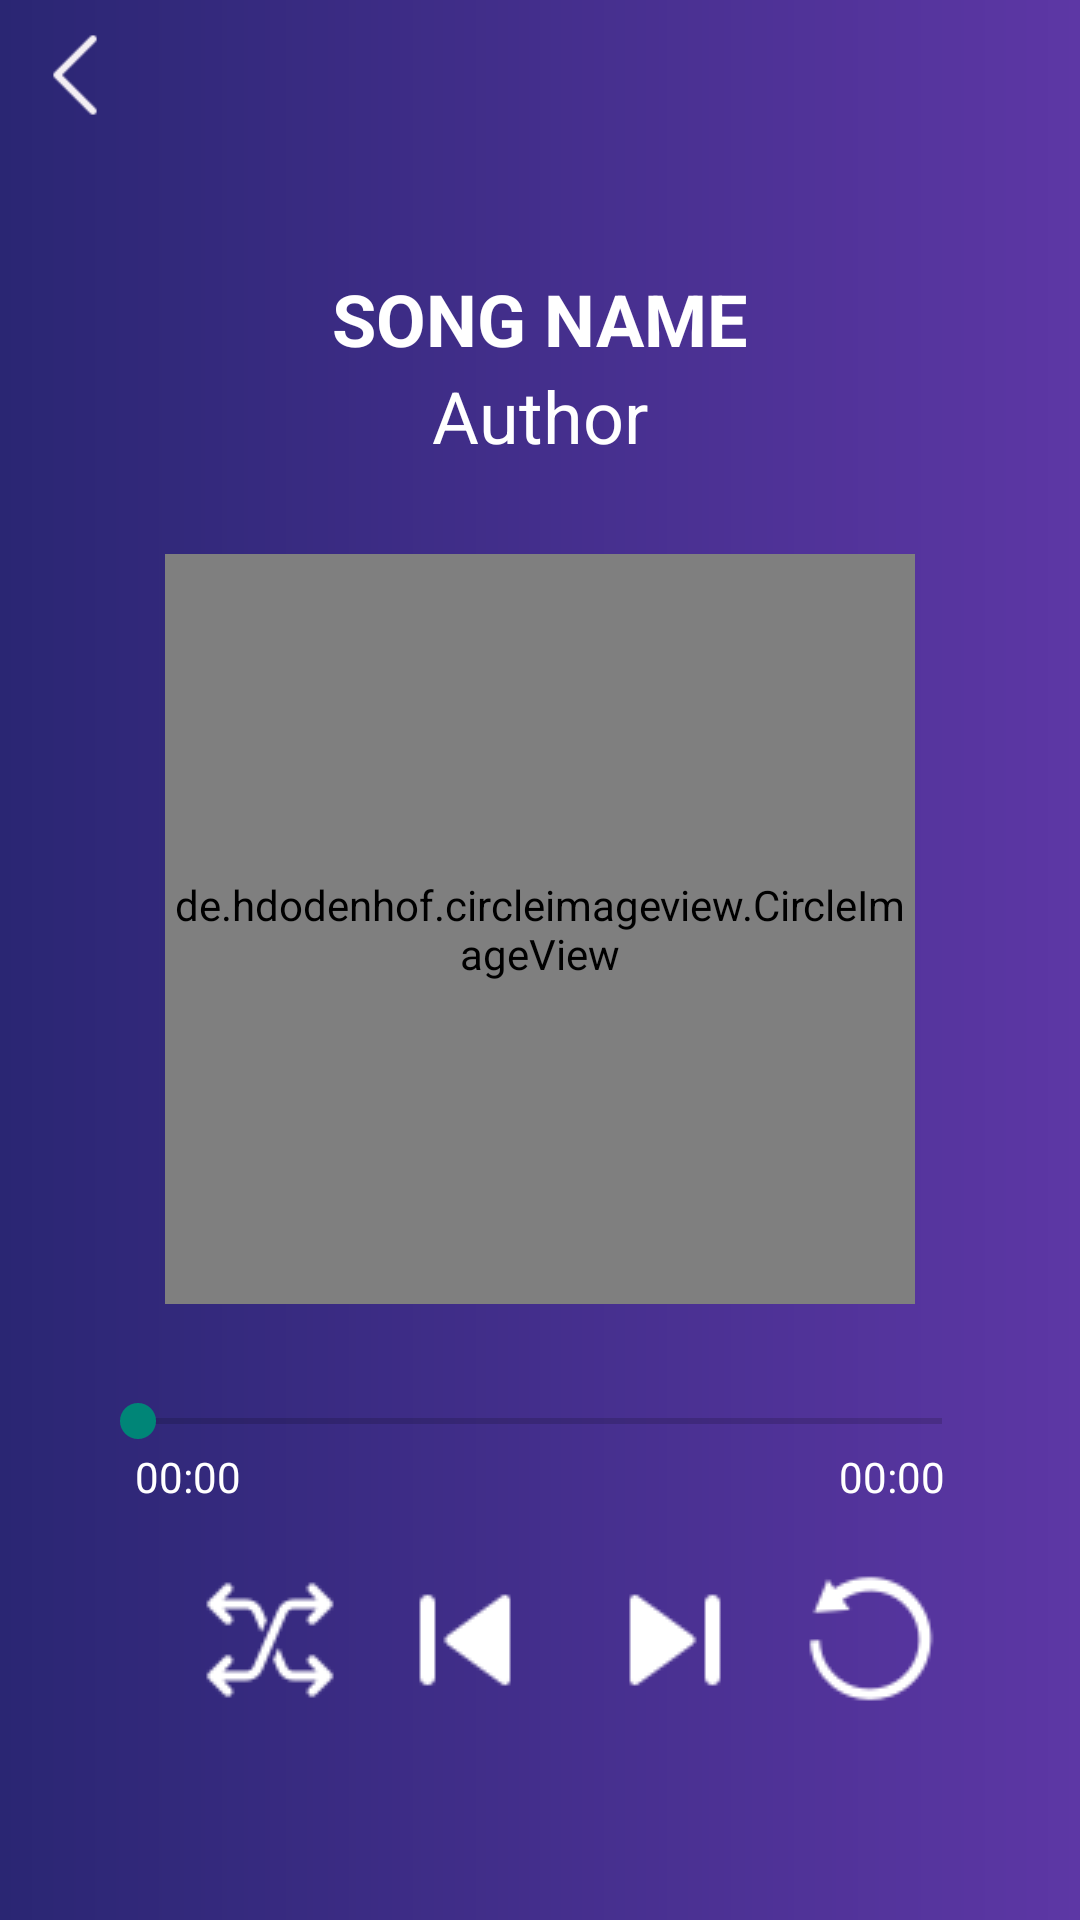

Icons on this 1080w x 1920h Android screen, each with its box as region(x1, y1, x2, y2):
back: region(53, 35, 97, 115)
next: region(629, 1594, 721, 1686)
previous: region(419, 1594, 511, 1686)
replay: region(809, 1576, 933, 1701)
shuffling: region(206, 1582, 334, 1698)
